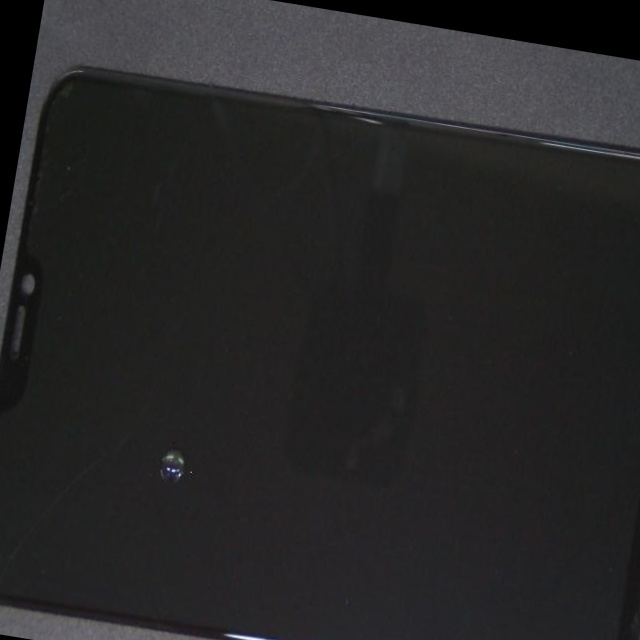oil: (35, 169, 297, 640)
